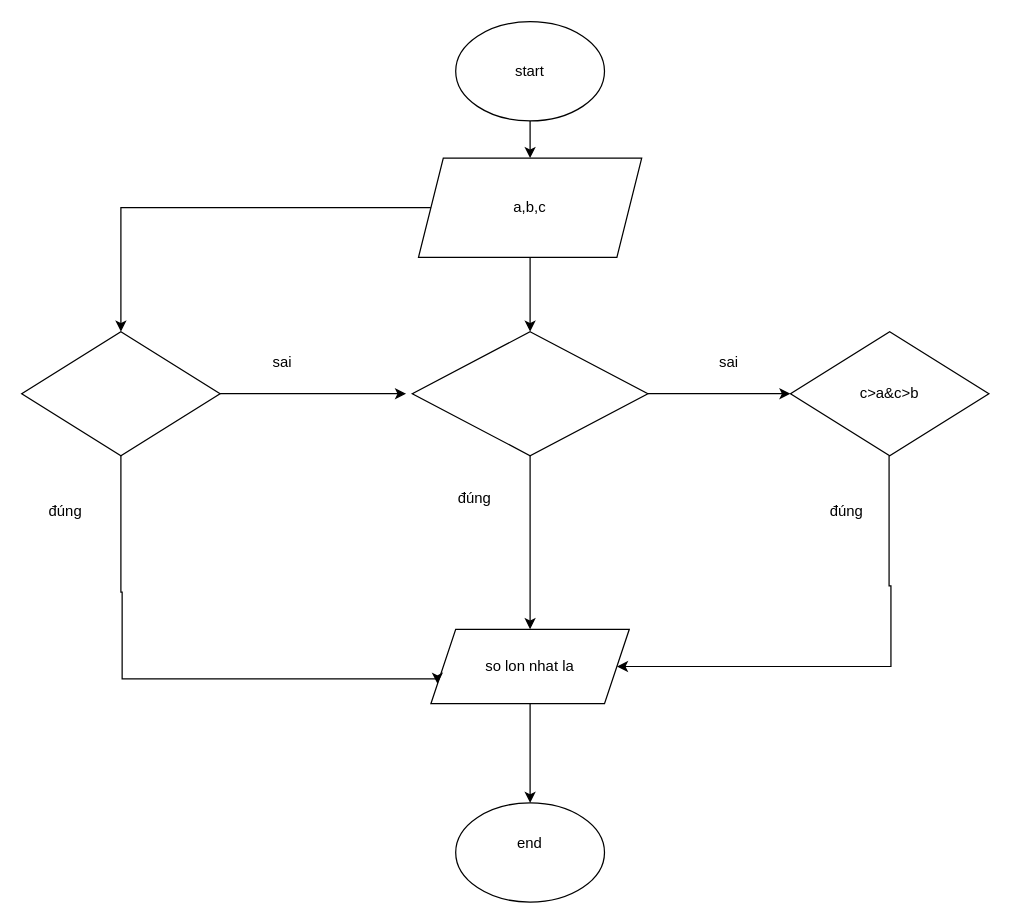
This 1011x924 diagram has some shape labels left out. Here are the shapes that lost their labels. From the top down, the centre of each, then its label:
At (120,393): "a>b&a>c".
At (529,393): "b>a&b>c".
